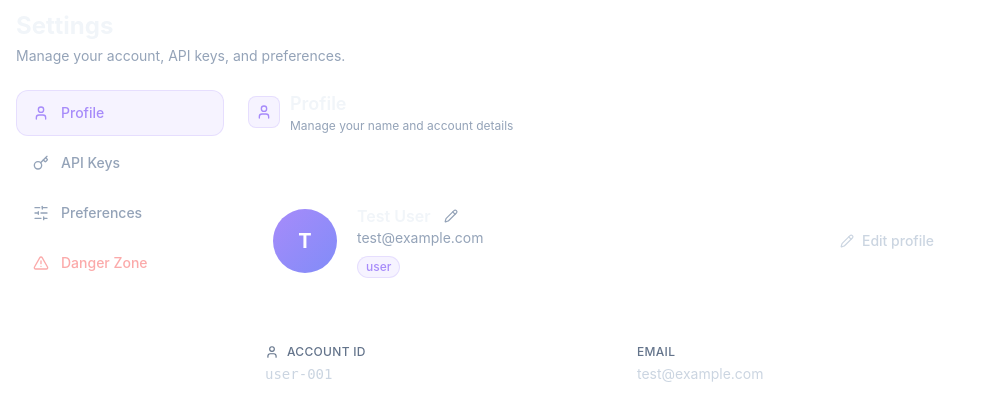
API Keys section › shows loading spinner while fetching
Click the button "API Keys": (120, 163) [16,140,224,186]
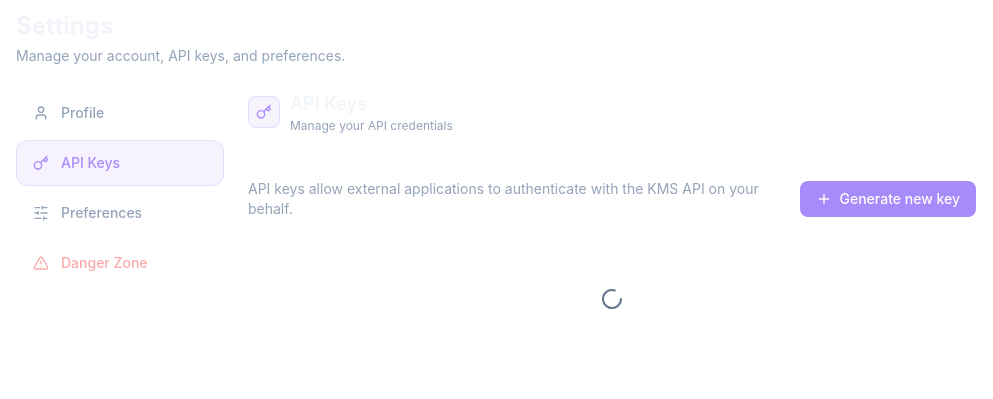
expect the icon named "Loading API keys" is shown: met, box [600,287,624,311]
